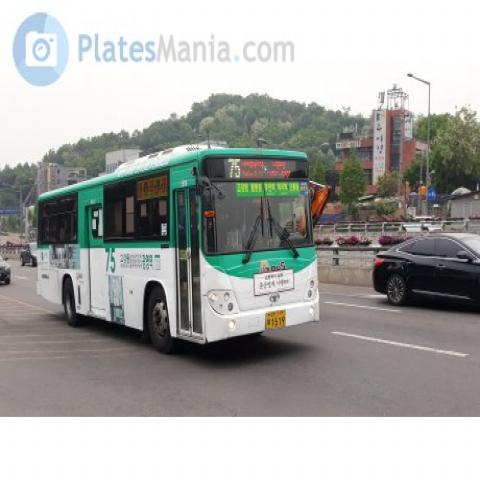LP: (260, 308, 294, 339)
